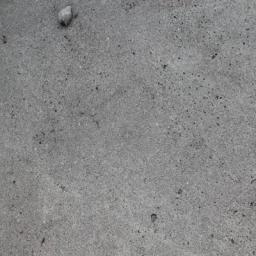FOD: (55, 3, 78, 31)
